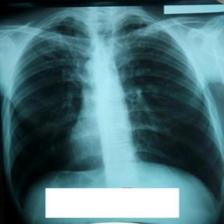tuberculosis: (0, 14, 224, 218)
